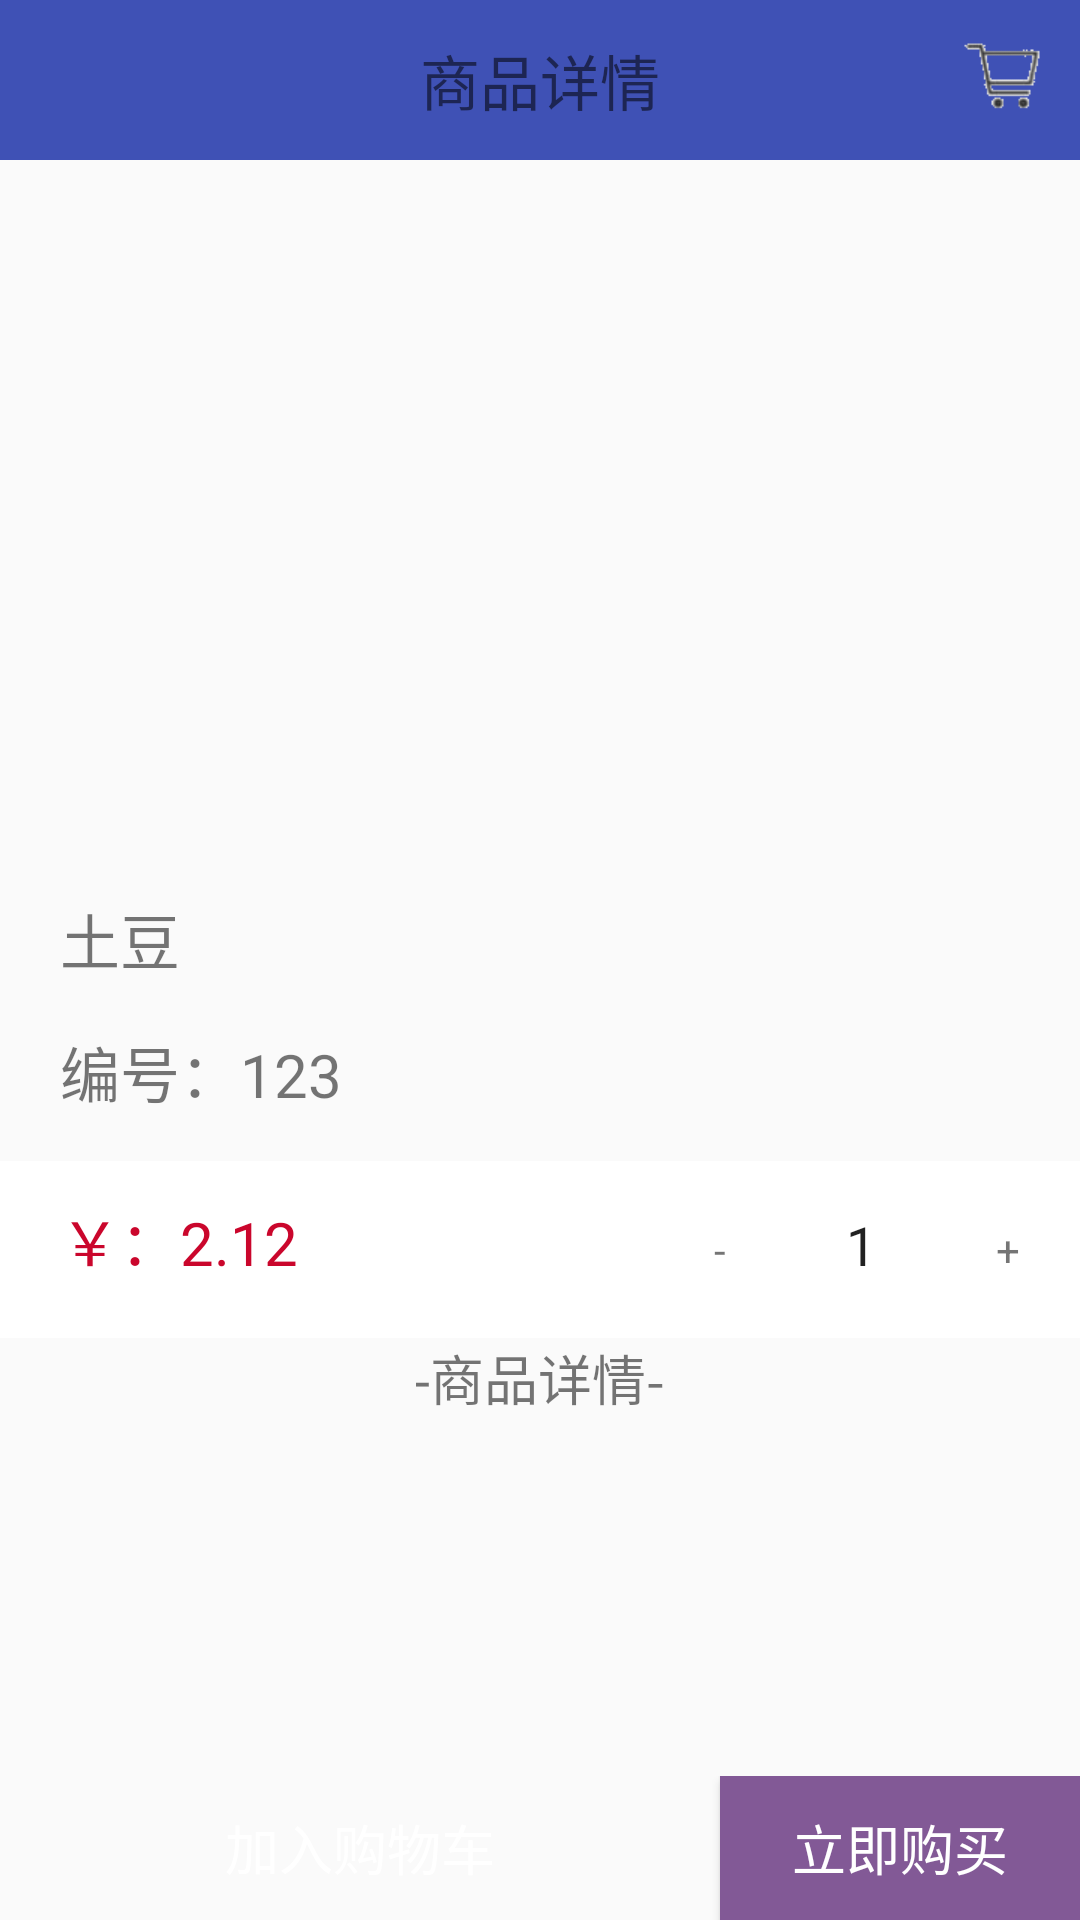

Locate icon controls on the screen. Image size 1080 x 1920, boxes as (x1, y1, x2, y2).
shopping car: (964, 43, 1040, 109)
